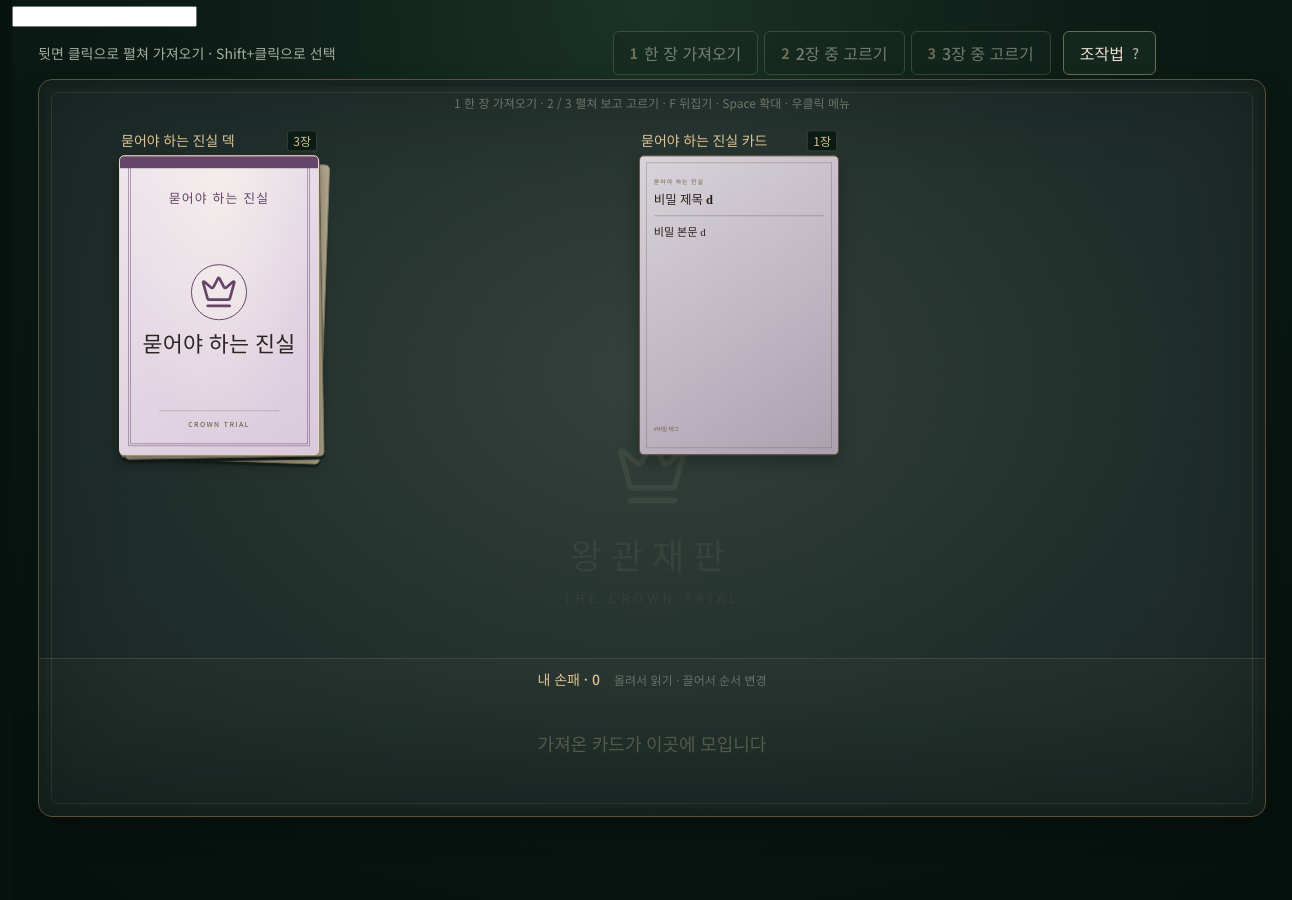
Scenario: 테이블 실제 입력 경로 › 한 장 꺼내 이동은 놓을 때 한 번 저장하고 모든 카드와 앞뒤를 보존한다
Step 1. Press the mouse on the button "묻어야 하는 진실 묻어야 하는 진실 CROWN TRIAL" → (219, 305), box [119,155,319,455]
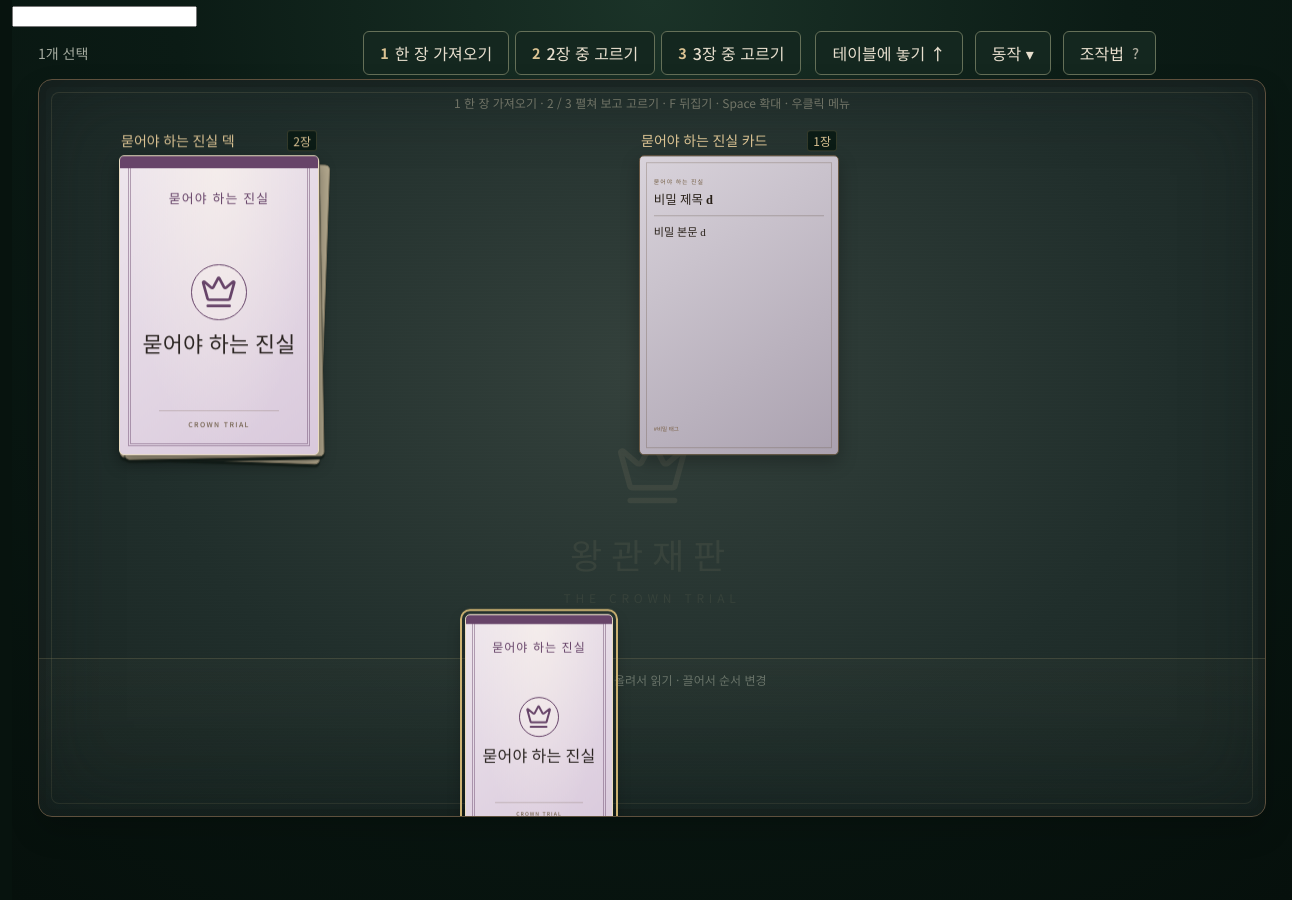
Expected: the element with class "table-piece--dragging" is shown, [119,155,319,455]
